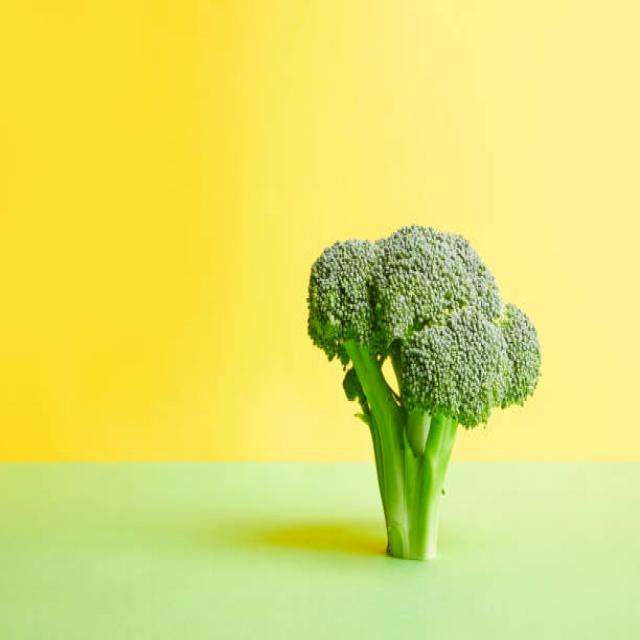broccoli: (297, 183, 571, 596)
